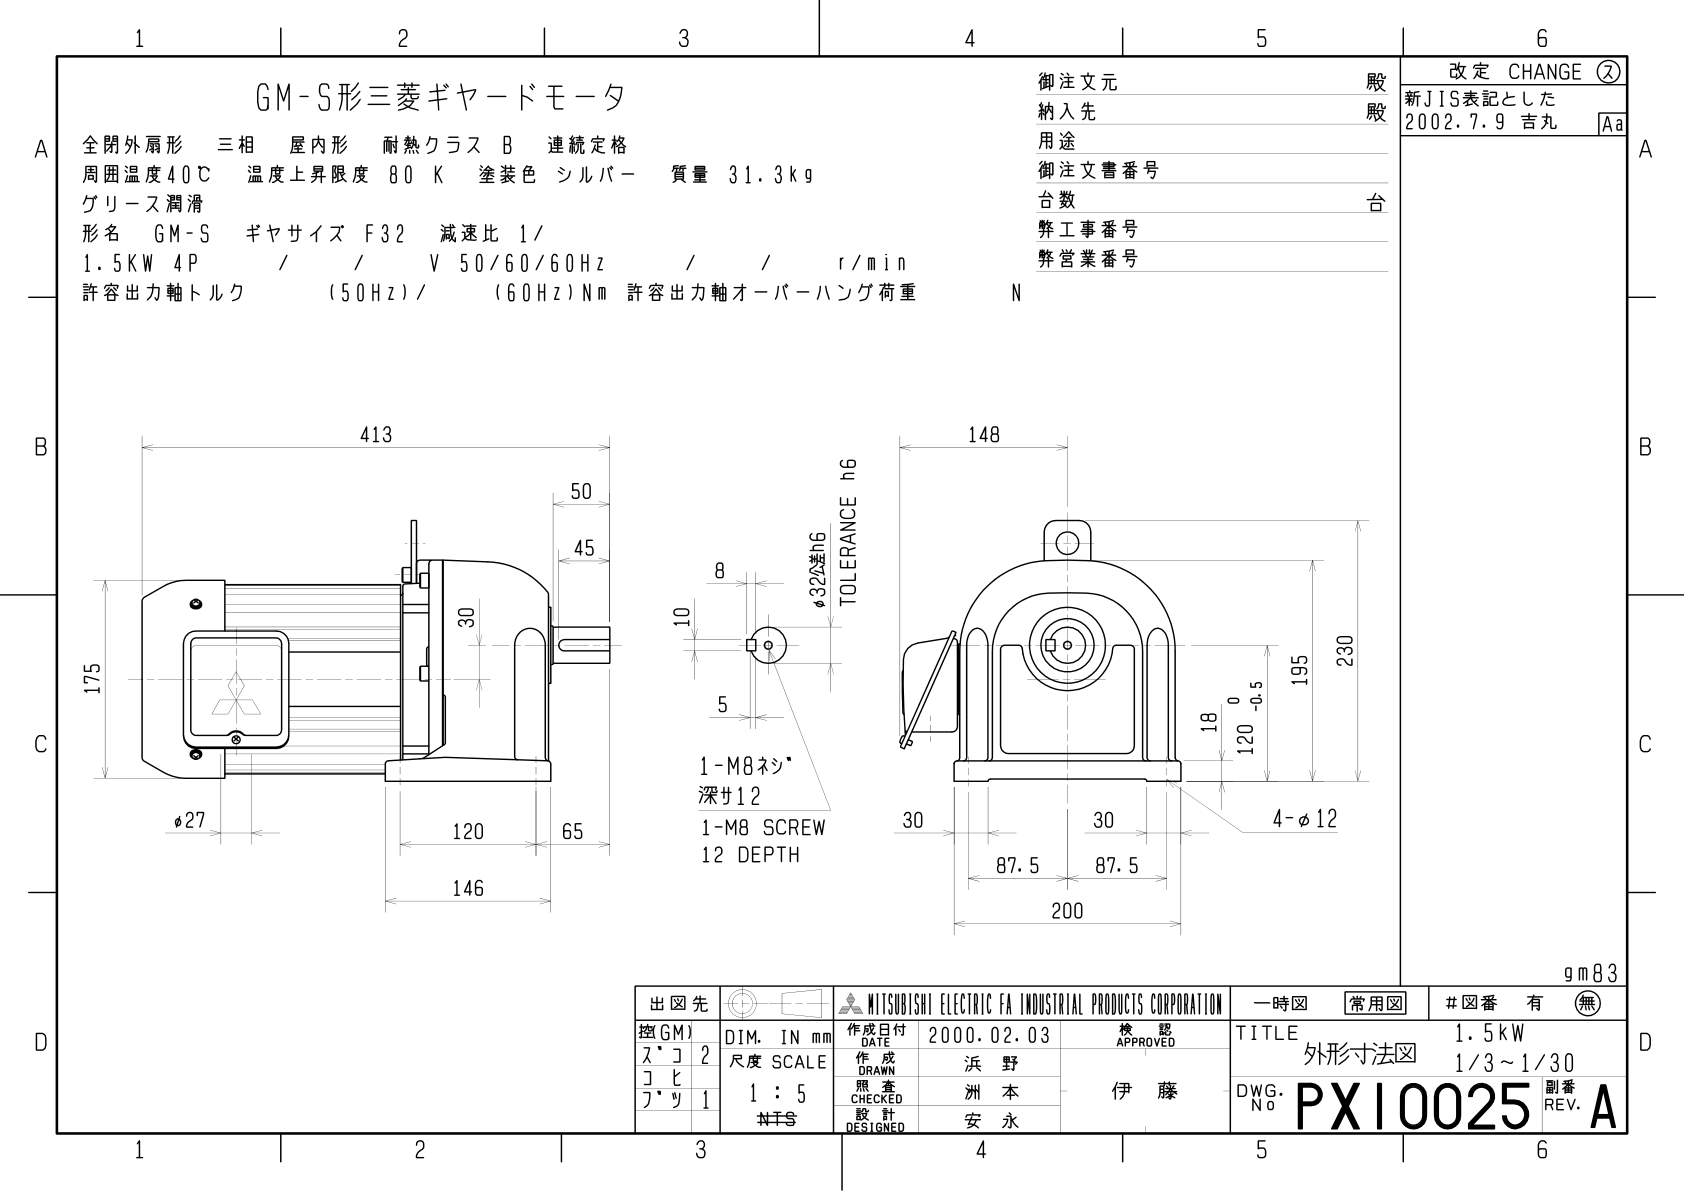GM_S_屋内＿三相_脚: (63, 360, 1383, 955)
